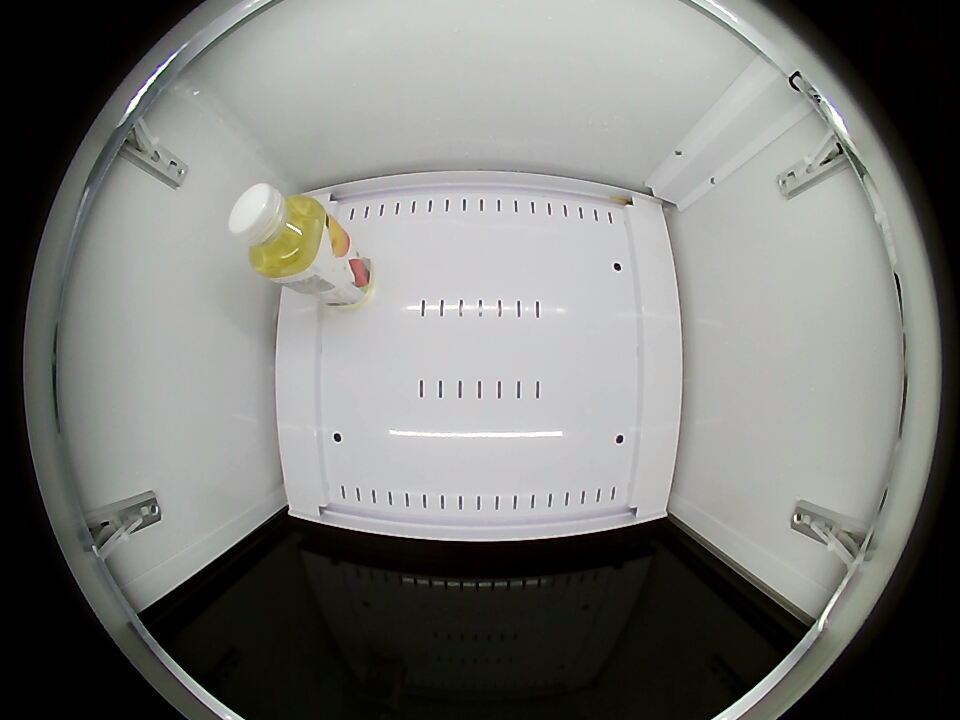chapai2: (229, 184, 329, 280)
